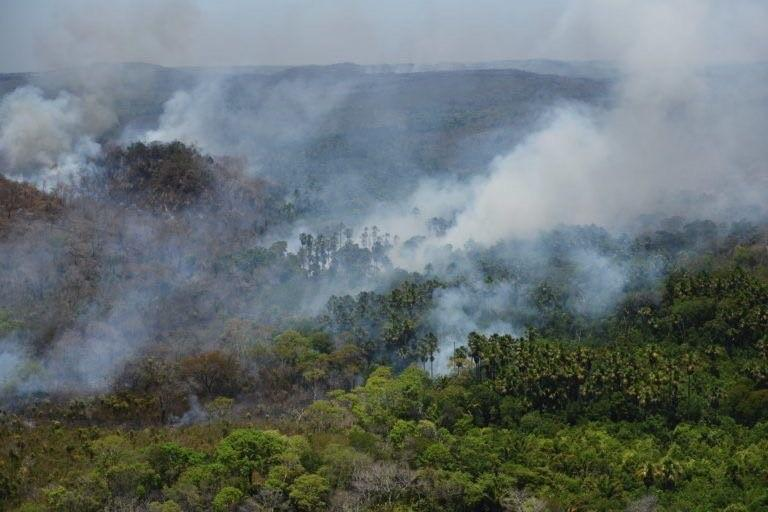smoke: (403, 110, 759, 269), (0, 82, 115, 211), (399, 253, 487, 396), (12, 301, 128, 406), (133, 87, 263, 170), (283, 202, 397, 289)
